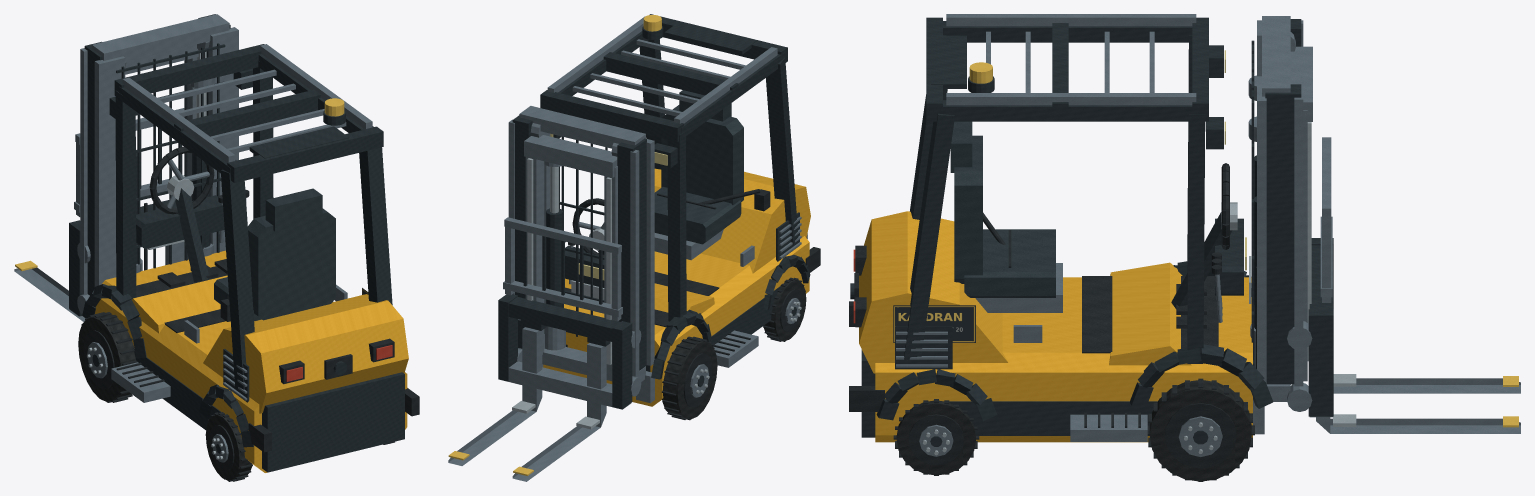
3 views of the same model, side by side, from view 1: azimuth 30°, elevation 25°; view 2: azimuth 150°, elevation 25°; view 3: azimuth 270°, elevation 25° (orthographic). The views are drawn at different scales.
Parts seen in each view (by area): view 1: chassis_VIS_Rounded_Rear_Counterweight_Hood_004_4, chassis_VIS_Heavy_Lower_Counterweight_006_6, chassis_VIS_Operator_Seat_Back_045_45, chassis_VIS_Battery_And_Frame_Main_001_1, mast_VIS_Outer_Mast_Rear_Web_003_334, chassis_VIS_Guard_Rear_Swept_Upright_051_51, chassis_VIS_Guard_Front_Upright_050_50, chassis_VIS_Guard_Rear_Swept_Upright_055_55, mast_VIS_Outer_Mast_Horizontal_Tie_010_341, chassis_VIS_Roof_Crossmember_060_60, chassis_VIS_Roof_Crossmember_058_58, chassis_VIS_Roof_Crossmember_059_59 (+34 smaller); view 2: chassis_VIS_Battery_And_Frame_Main_001_1, chassis_VIS_Operator_Seat_Back_045_45, chassis_VIS_Rounded_Rear_Counterweight_Hood_004_4, mast_VIS_Outer_Continuous_C_Channel_Flange_001_332, chassis_VIS_Guard_Front_Upright_050_50, chassis_VIS_Guard_Rear_Swept_Upright_051_51, chassis_VIS_Roof_Crossmember_058_58, fork_VIS_Forged_L_Section_Fork_Blade_001_403, chassis_VIS_Operator_Seat_Base_044_44, fork_VIS_Forged_L_Section_Fork_Blade_001_399, mast_VIS_Outer_Mast_Horizontal_Tie_010_341, carriage_VIS_Fork_Carriage_Load_Crossbar_Upper_001_382 (+45 smaller); view 3: chassis_VIS_Battery_And_Frame_Main_001_1, chassis_VIS_Rounded_Rear_Counterweight_Hood_004_4, mast_VIS_Outer_Continuous_C_Channel_Flange_005_336, chassis_VIS_Inclined_Front_Footwell_005_5, chassis_VIS_Operator_Seat_Base_044_44, chassis_VIS_Guard_Rear_Swept_Upright_055_55, frontwheel_VIS_Solid_Pneumatic_Tyre_001_191, chassis_VIS_Graphite_Side_Rocker_021_21, chassis_VIS_Overhead_Guard_Longitudinal_Rail_056_56, chassis_VIS_Guard_Front_Upright_054_54, chassis_VIS_Overhead_Guard_Longitudinal_Rail_052_52, chassis_VIS_Operator_Seat_Back_045_45 (+33 smaller).
Part boxes in pixels (x1,y1,x2,y2): chassis_VIS_Rounded_Rear_Counterweight_Hood_004_4: (203, 294, 408, 413); chassis_VIS_Heavy_Lower_Counterweight_006_6: (262, 372, 404, 472); chassis_VIS_Operator_Seat_Back_045_45: (248, 208, 335, 320); chassis_VIS_Battery_And_Frame_Main_001_1: (95, 250, 407, 472); mast_VIS_Outer_Mast_Rear_Web_003_334: (94, 56, 125, 286); chassis_VIS_Guard_Rear_Swept_Upright_051_51: (220, 169, 254, 389); chassis_VIS_Guard_Front_Upright_050_50: (115, 90, 136, 298); chassis_VIS_Guard_Rear_Swept_Upright_055_55: (359, 147, 392, 305); mast_VIS_Outer_Mast_Horizontal_Tie_010_341: (92, 14, 229, 61); chassis_VIS_Roof_Crossmember_060_60: (227, 126, 383, 182); chassis_VIS_Roof_Crossmember_058_58: (114, 44, 264, 95); chassis_VIS_Roof_Crossmember_059_59: (174, 89, 320, 136); chassis_VIS_Battery_And_Frame_Main_001_1: (543, 236, 809, 406); chassis_VIS_Operator_Seat_Back_045_45: (661, 105, 743, 204); chassis_VIS_Rounded_Rear_Counterweight_Hood_004_4: (654, 168, 810, 273); mast_VIS_Outer_Continuous_C_Channel_Flange_001_332: (617, 138, 646, 370); chassis_VIS_Guard_Front_Upright_050_50: (667, 131, 686, 321); chassis_VIS_Guard_Rear_Swept_Upright_051_51: (766, 57, 798, 245); chassis_VIS_Roof_Crossmember_058_58: (540, 90, 683, 141); fork_VIS_Forged_L_Section_Fork_Blade_001_403: (448, 327, 542, 465); chassis_VIS_Operator_Seat_Base_044_44: (654, 187, 741, 244); fork_VIS_Forged_L_Section_Fork_Blade_001_399: (512, 343, 606, 481); mast_VIS_Outer_Mast_Horizontal_Tie_010_341: (519, 106, 645, 148); carriage_VIS_Fork_Carriage_Load_Crossbar_Upper_001_382: (508, 297, 620, 341); chassis_VIS_Battery_And_Frame_Main_001_1: (875, 277, 1252, 442); chassis_VIS_Rounded_Rear_Counterweight_Hood_004_4: (859, 211, 1008, 373); mast_VIS_Outer_Continuous_C_Channel_Flange_005_336: (1265, 84, 1301, 384); chassis_VIS_Inclined_Front_Footwell_005_5: (1109, 262, 1191, 365); chassis_VIS_Operator_Seat_Base_044_44: (964, 229, 1055, 297); chassis_VIS_Guard_Rear_Swept_Upright_055_55: (904, 113, 954, 360); frontwheel_VIS_Solid_Pneumatic_Tyre_001_191: (1149, 380, 1251, 481); chassis_VIS_Graphite_Side_Rocker_021_21: (949, 401, 1157, 435); chassis_VIS_Overhead_Guard_Longitudinal_Rail_056_56: (934, 100, 1198, 121); chassis_VIS_Guard_Front_Upright_054_54: (1187, 114, 1205, 363); chassis_VIS_Overhead_Guard_Longitudinal_Rail_052_52: (943, 21, 1192, 42); chassis_VIS_Operator_Seat_Back_045_45: (954, 135, 982, 283).
Size of the model in its own units: 1.58 by 2.39 by 3.74.
Materials: 11 (11 with a texture image).
